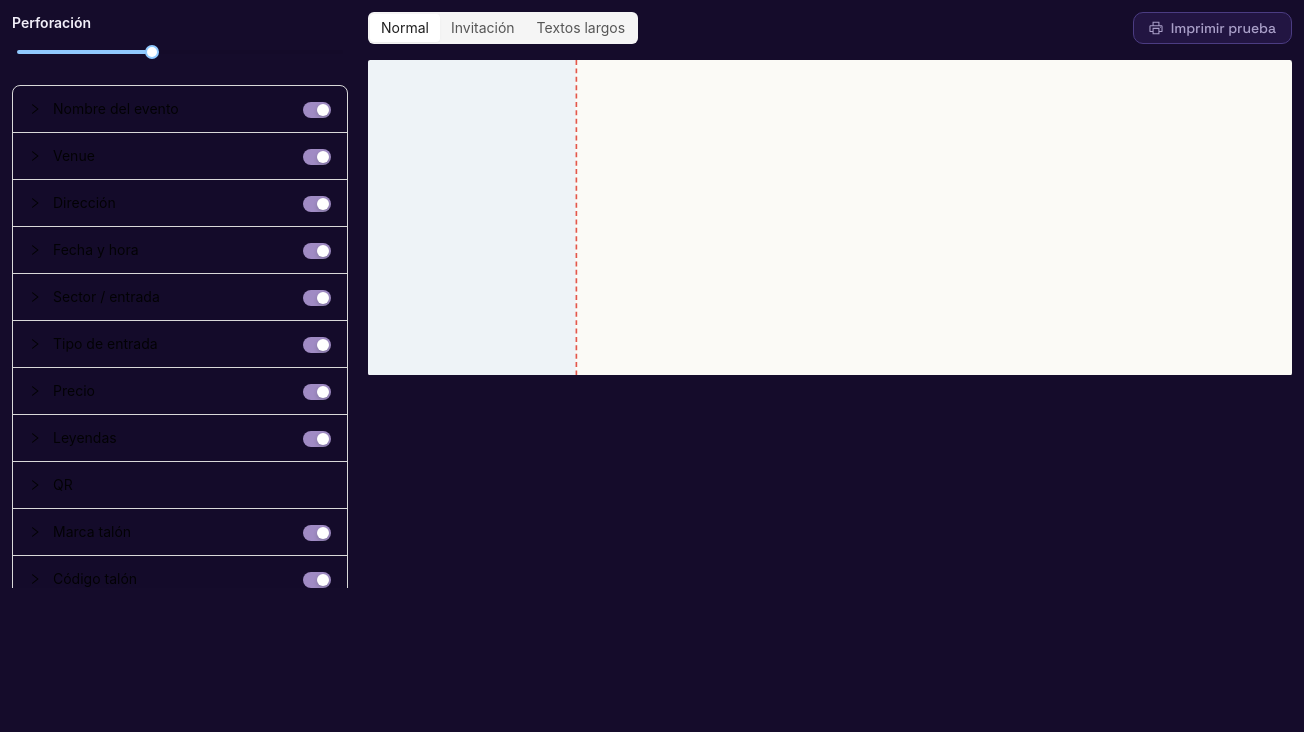
Test case: TicketDesigner › el aviso de degradación aparece solo cuando la zona degradó
Click the button "Nombre del evento": (180, 109) [29,100,331,118]
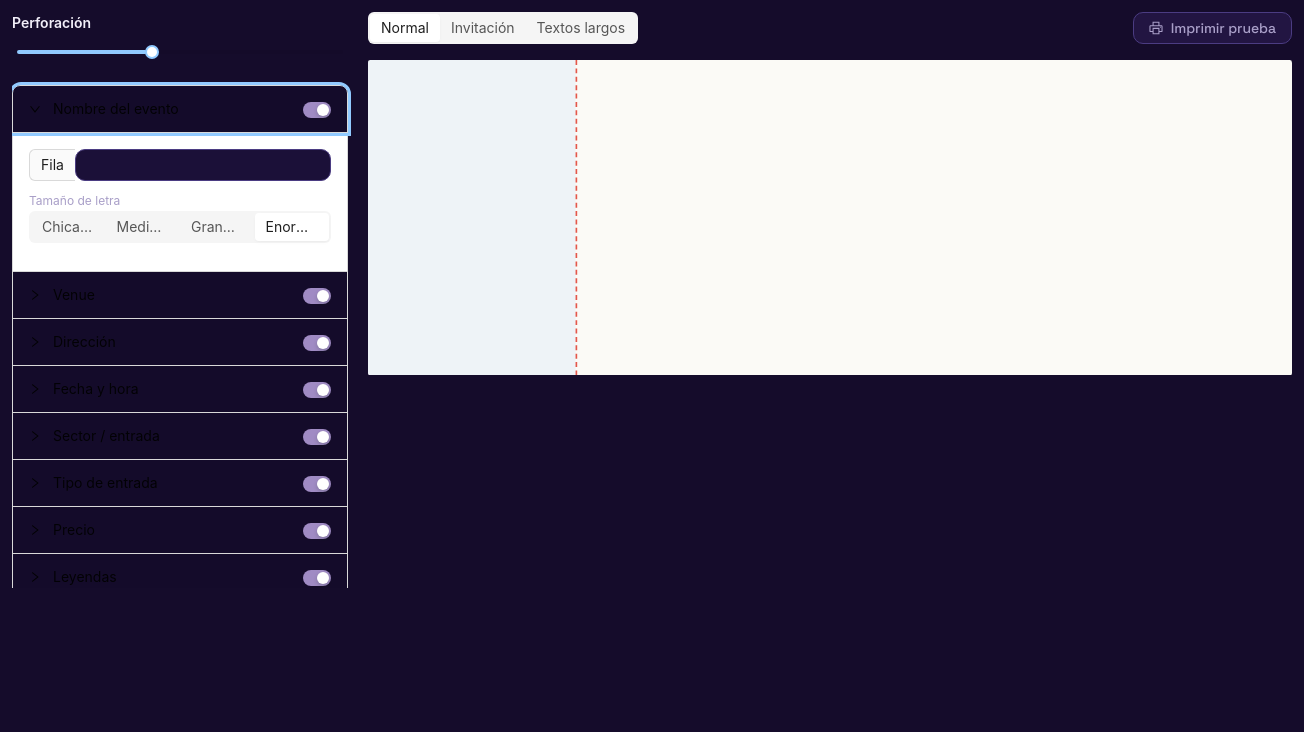
Result: the text "Tamaño de letra" is shown at [29,193,120,208]
